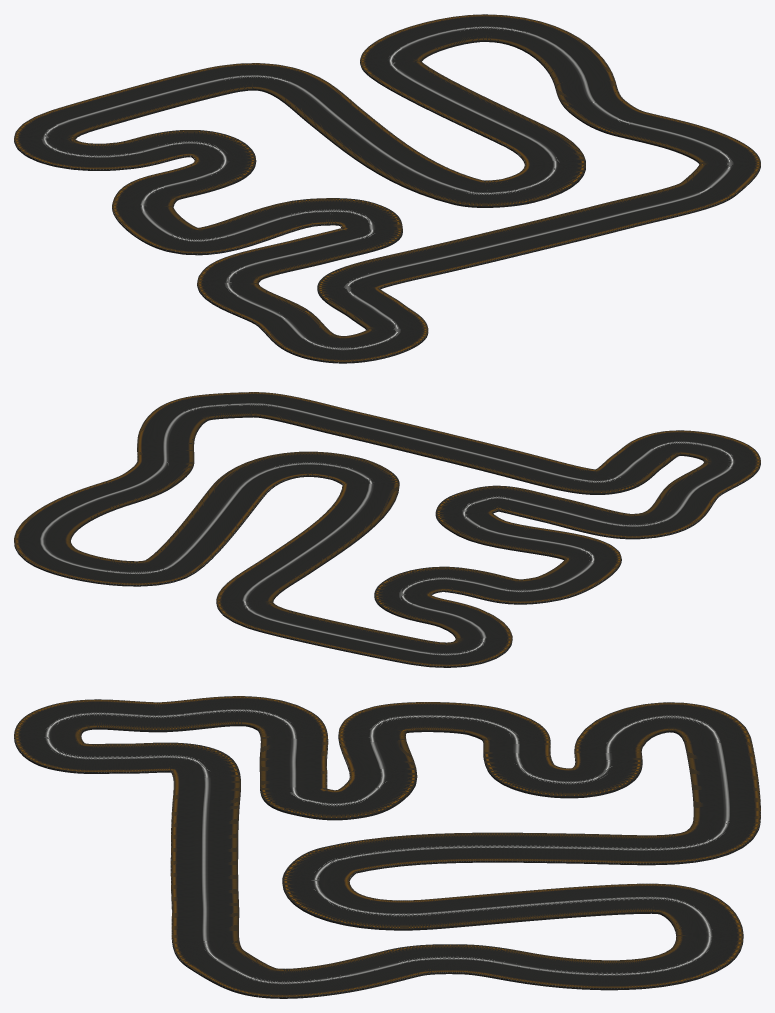
The model's file is roadv2.obj.
The picture shows the model from 3 angles, top to bottom: view 1: azimuth 30°, elevation 25°; view 2: azimuth 150°, elevation 25°; view 3: azimuth 270°, elevation 25°; orthographic projection. The views are drawn at different scales.
Parts seen in each view (by area): view 1: road.002; view 2: road.002; view 3: road.002.
Boxes of the visible parts, bbox=[...] form: road.002: bbox=[14, 14, 760, 363]; road.002: bbox=[14, 392, 760, 667]; road.002: bbox=[14, 696, 760, 998].
Bounding box in the file's own units: 5.47 × 0.0171 × 5.74.
